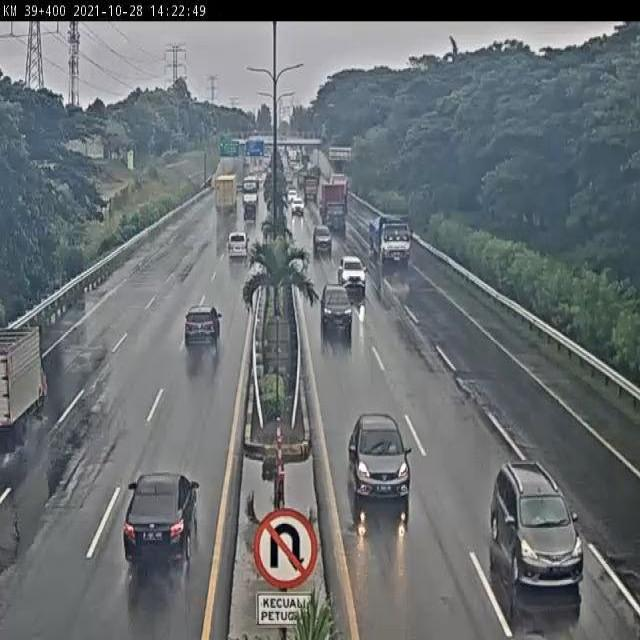truck-l-: (365, 212, 414, 268)
truck-s-: (0, 326, 48, 450)
truck-xl-: (319, 181, 348, 236)
